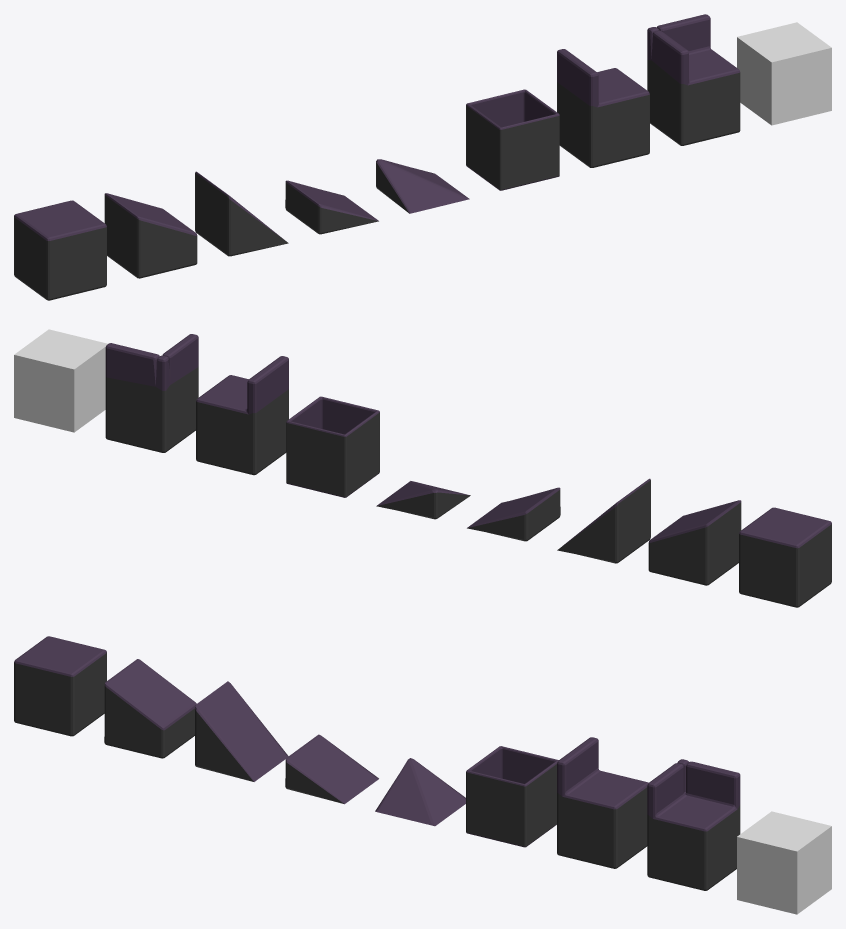
The model's file is blocksv1.glb.
The picture shows the model from 3 angles, top to bottom: view 1: azimuth 30°, elevation 25°; view 2: azimuth 150°, elevation 25°; view 3: azimuth 330°, elevation 25°; orthographic projection.
Parts seen in each view (by area): view 1: lvl_wallcornerblock, lvl_wallblock, Cube, lvl_hollowblock, lvl_genblock, lvl_rampshallow, lvl_rampsteep, lvl_rampcorner, lvl_ramphalf; view 2: lvl_wallcornerblock, lvl_wallblock, Cube, lvl_hollowblock, lvl_genblock, lvl_rampshallow, lvl_rampsteep, lvl_ramphalf, lvl_rampcorner; view 3: lvl_wallcornerblock, lvl_wallblock, Cube, lvl_hollowblock, lvl_genblock, lvl_rampshallow, lvl_rampsteep, lvl_ramphalf, lvl_rampcorner.
Boxes of the visible parts, <box> form: lvl_wallcornerblock: <box>647,14,740,145</box>; lvl_wallblock: <box>557,49,649,167</box>; Cube: <box>737,22,831,125</box>; lvl_hollowblock: <box>466,89,559,190</box>; lvl_genblock: <box>14,200,106,300</box>; lvl_rampshallow: <box>104,193,197,278</box>; lvl_rampsteep: <box>195,171,288,256</box>; lvl_rampcorner: <box>376,159,469,213</box>; lvl_ramphalf: <box>285,180,378,234</box>; lvl_wallcornerblock: <box>105,334,198,452</box>; lvl_wallblock: <box>196,356,288,475</box>; Cube: <box>14,329,107,432</box>; lvl_hollowblock: <box>286,396,379,497</box>; lvl_genblock: <box>739,507,831,607</box>; lvl_rampshallow: <box>648,500,741,585</box>; lvl_rampsteep: <box>557,478,650,563</box>; lvl_ramphalf: <box>467,487,560,541</box>; lvl_rampcorner: <box>376,481,470,519</box>; lvl_wallcornerblock: <box>647,759,740,890</box>; lvl_wallblock: <box>557,737,648,868</box>; Cube: <box>737,811,831,914</box>; lvl_hollowblock: <box>466,746,558,847</box>; lvl_genblock: <box>14,636,106,736</box>; lvl_rampshallow: <box>104,659,196,758</box>; lvl_rampsteep: <box>195,681,288,781</box>; lvl_ramphalf: <box>285,734,378,804</box>; lvl_rampcorner: <box>375,758,465,826</box>.
Size of what is drawn, in the model's own units: 26 by 3 by 2.
